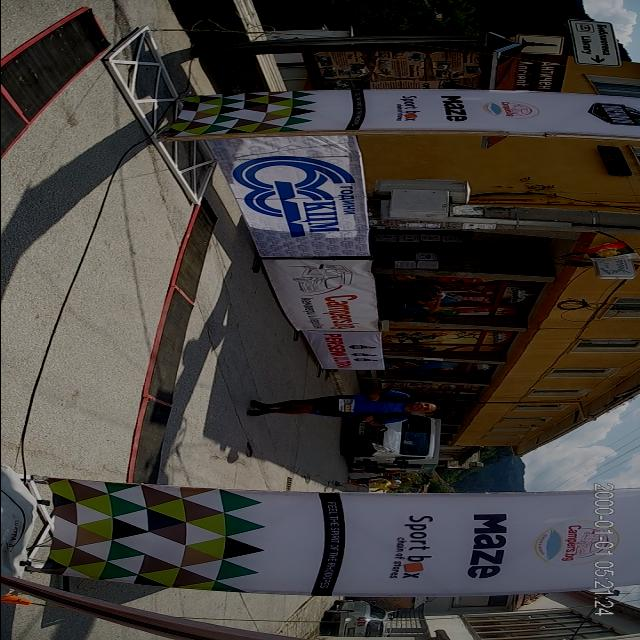runner: (240, 380, 447, 436)
